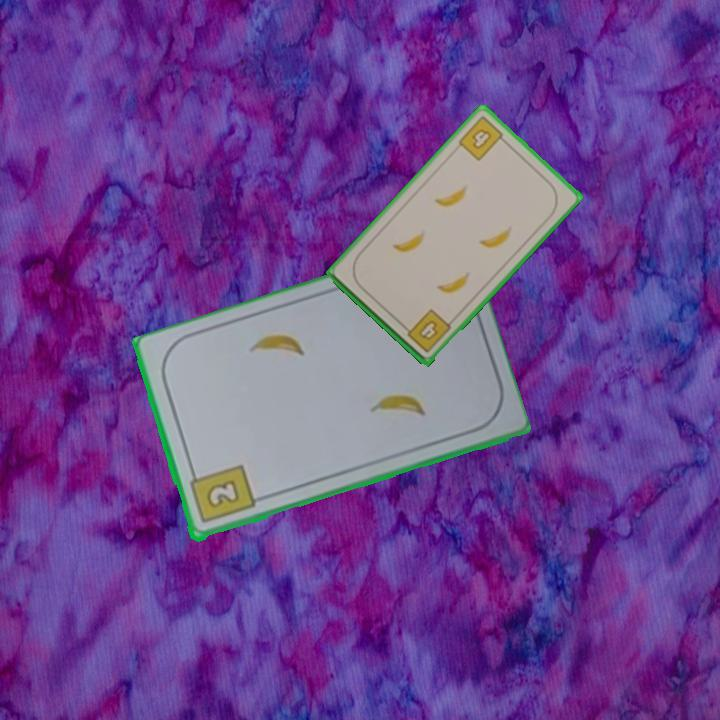2b: (185, 462, 257, 527)
4b: (455, 112, 510, 164), (399, 305, 454, 355)
